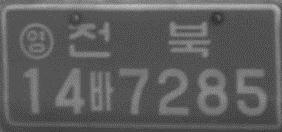1: (17, 66, 50, 115)
2: (157, 66, 189, 116)
4: (53, 67, 85, 115)
5: (235, 66, 268, 118)
7: (117, 66, 149, 115)
8: (196, 67, 228, 117)
바: (88, 69, 114, 113)
영: (17, 22, 54, 60)
전북_D: (66, 21, 213, 59)
